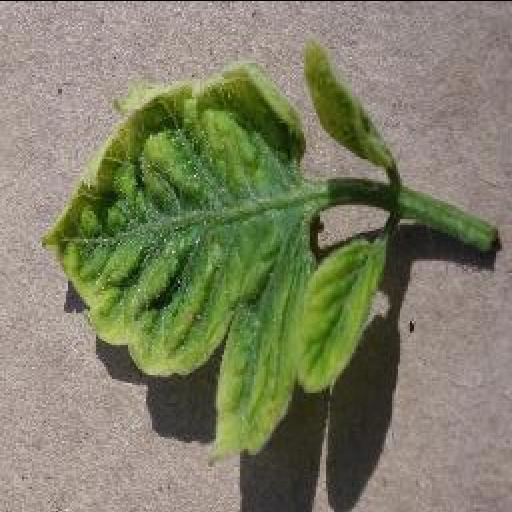disease_tomato: (38, 62, 308, 448), (288, 233, 390, 395), (300, 37, 396, 159)
